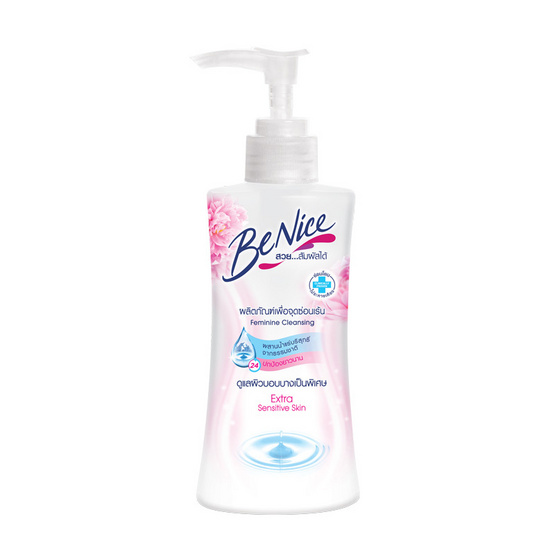Cleaning_solution: (185, 37, 370, 524)
